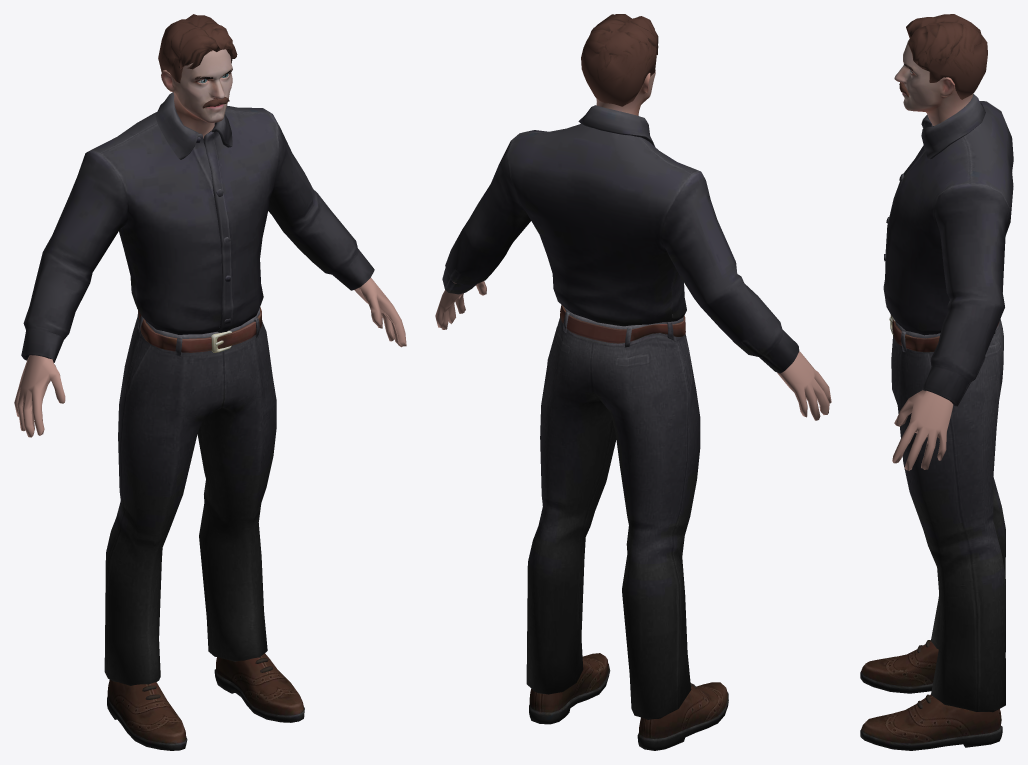
The model's file is Henry Cavill.fbx.
3 views of the same model, side by side, from view 1: azimuth 30°, elevation 25°; view 2: azimuth 150°, elevation 25°; view 3: azimuth 270°, elevation 25° (orthographic).
Visible parts, largest first — view 1: Henry Cavill.001; view 2: Henry Cavill.001; view 3: Henry Cavill.001.
Part boxes in pixels (bbox=[...]): Henry Cavill.001: bbox=[14, 14, 406, 750]; Henry Cavill.001: bbox=[435, 14, 831, 750]; Henry Cavill.001: bbox=[860, 14, 1013, 750].
Size of the model in its own units: 1.06 by 0.3706 by 1.85.
